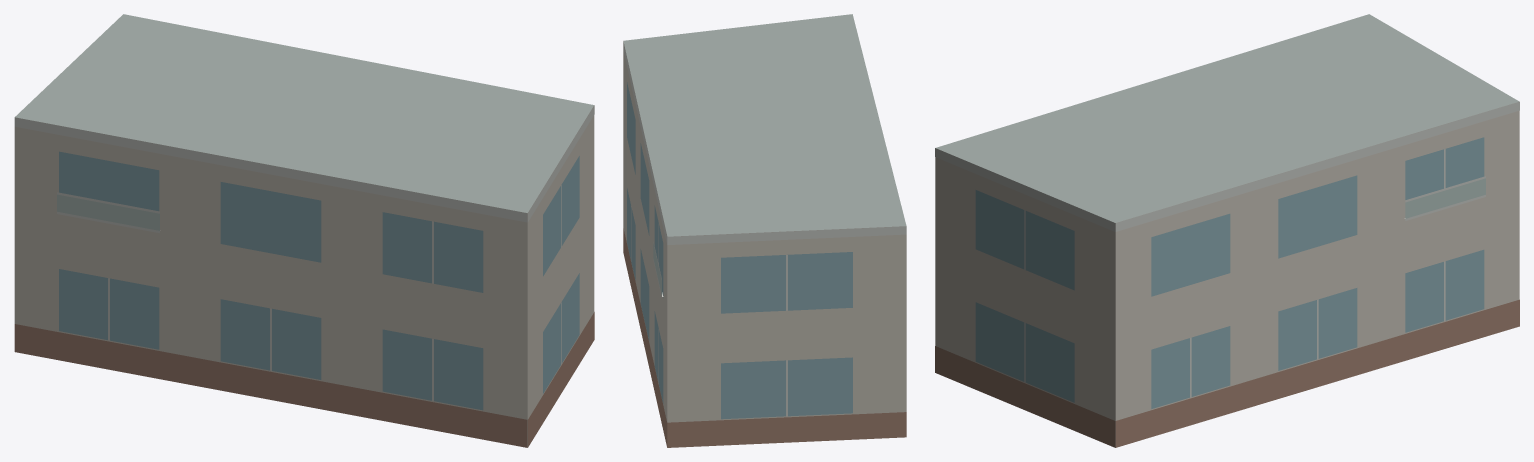
The model's file is survey-upis-32894038.glb.
The picture shows the model from 3 angles, left to right: view 1: azimuth 30°, elevation 25°; view 2: azimuth 150°, elevation 25°; view 3: azimuth 270°, elevation 25°; orthographic projection. The views are drawn at different scales.
Parts seen in each view (by area): view 1: survey-upis-32894038.tmp; view 2: survey-upis-32894038.tmp; view 3: survey-upis-32894038.tmp.
Boxes of the visible parts, x1,y1,x2,y2 form: survey-upis-32894038.tmp: (14, 14, 594, 447); survey-upis-32894038.tmp: (623, 14, 906, 447); survey-upis-32894038.tmp: (935, 14, 1519, 447).
Size of the model in its own units: 12.18 by 6.1 by 14.38.
